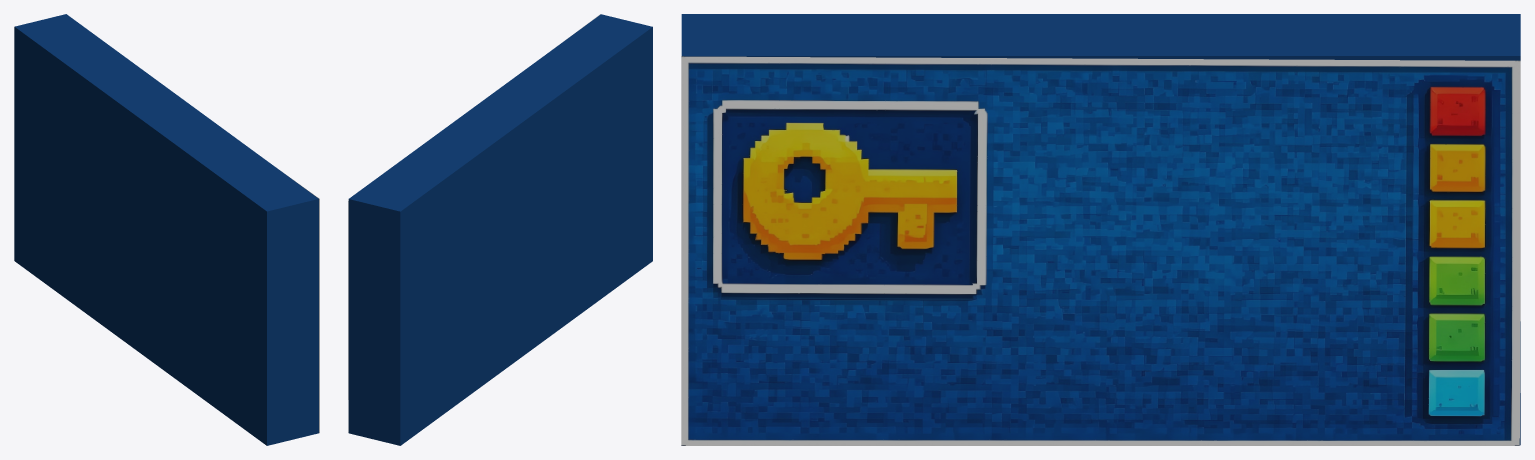
File: KeyCard.gltf
3 views of the same model, side by side, from view 1: azimuth 30°, elevation 25°; view 2: azimuth 150°, elevation 25°; view 3: azimuth 270°, elevation 25° (orthographic). The views are drawn at different scales.
Parts seen in each view (by area): view 1: 立方体; view 2: 立方体; view 3: 空物体.001, 立方体.
Boxes of the visible parts, bbox=[...] form: 立方体: bbox=[14, 14, 318, 445]; 立方体: bbox=[348, 14, 652, 445]; 空物体.001: bbox=[681, 56, 1520, 445]; 立方体: bbox=[681, 14, 1520, 445].
Bounding box in the file's own units: 0.5925 × 2.53 × 4.94.
2 materials, 1 textured.
